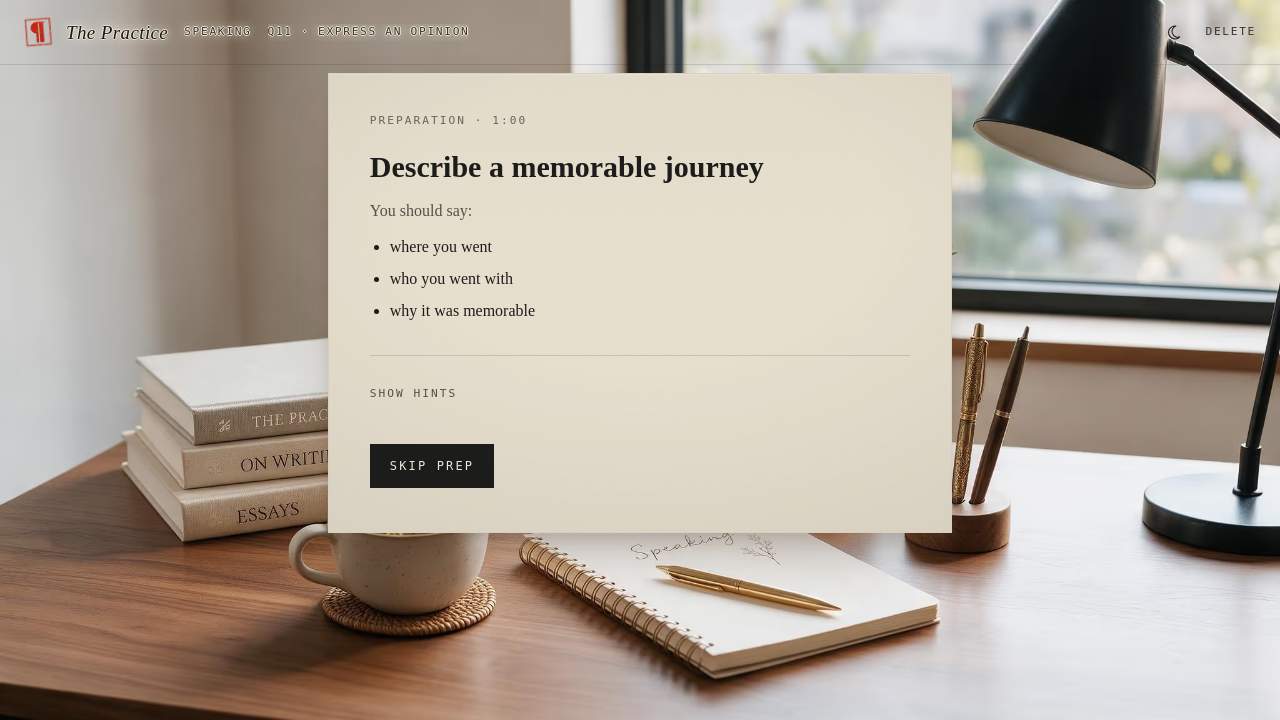
Test: SpeakingAttemptPage phases › shows Prep with cue card and can skip the countdown
This screenshot has width=1280, height=720.
Check: the heading "Describe a memorable journey" is shown, box [370, 150, 764, 183]
Check: the list item "where you went" is shown, box [390, 238, 492, 255]
Click the button "Skip prep" at (432, 466), box [370, 444, 494, 488]
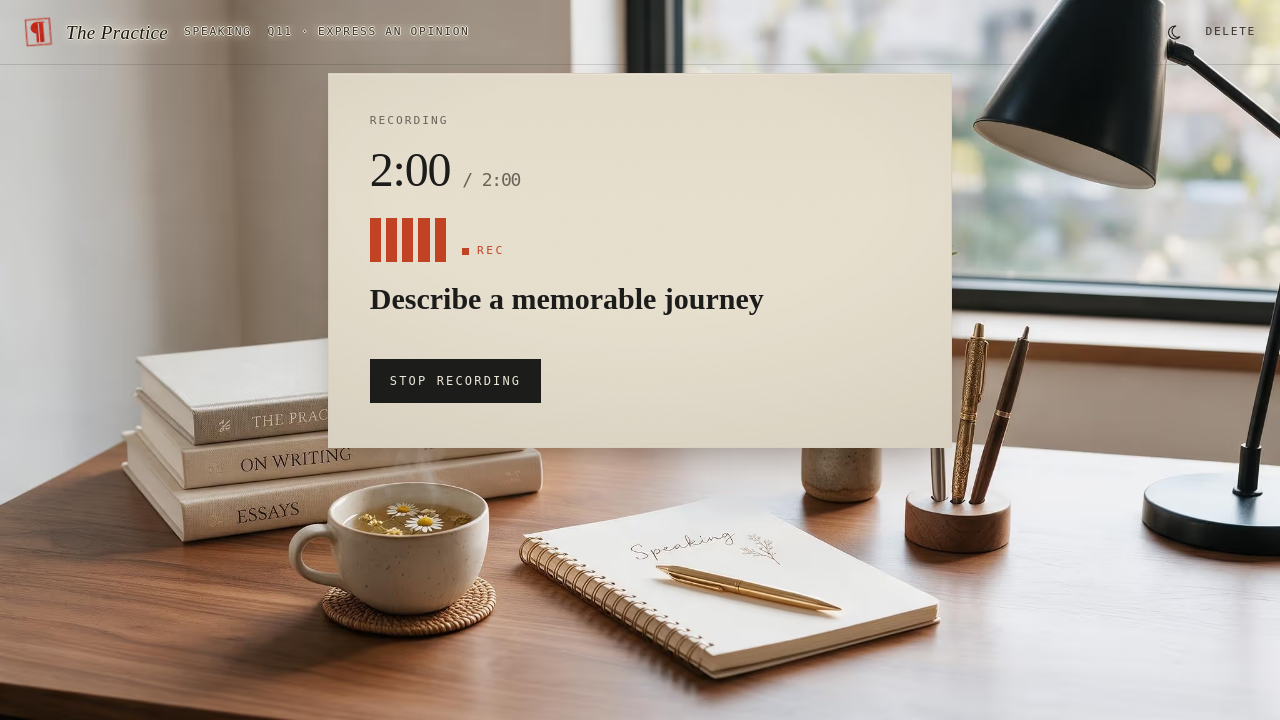
Check: the button "Stop recording" is shown, box [370, 359, 541, 403]
Check: the text "Rec" is shown, box [462, 243, 505, 260]
